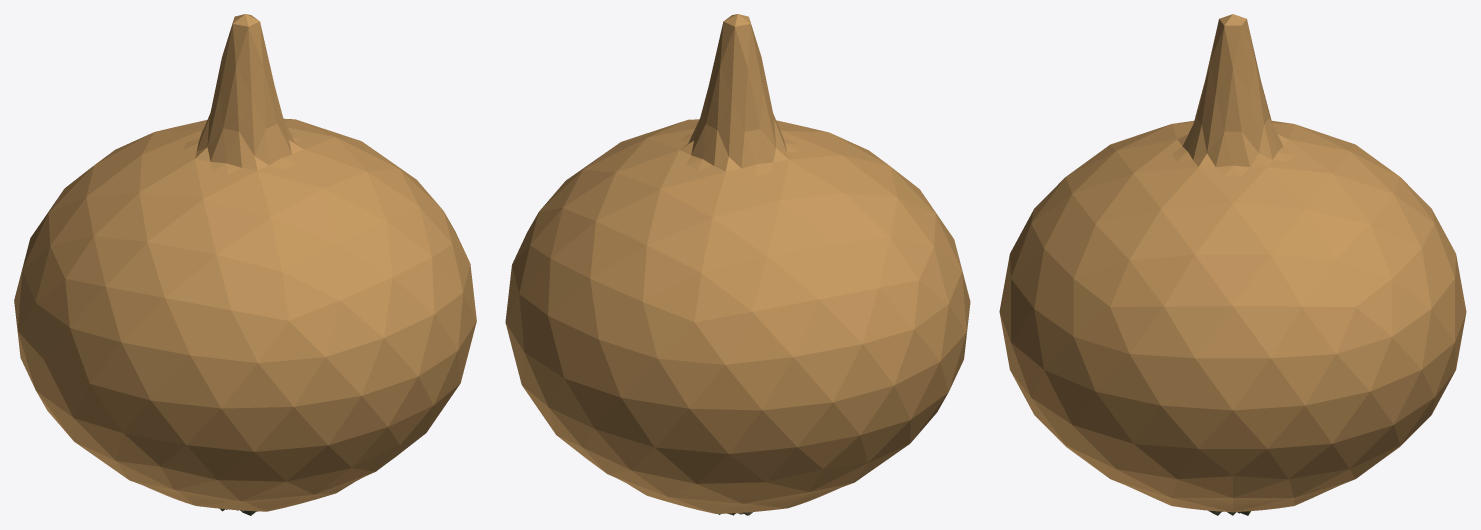
The model's file is onion.glb.
3 renders of one model, left to right at view 1: azimuth 30°, elevation 25°; view 2: azimuth 150°, elevation 25°; view 3: azimuth 270°, elevation 25°, orthographic.
Parts seen in each view (by area): view 1: Icosphere; view 2: Icosphere; view 3: Icosphere.
Part boxes in pixels (<box>): Icosphere: <box>14,14,476,511</box>; Icosphere: <box>505,14,970,513</box>; Icosphere: <box>999,14,1466,512</box>.
Size of the model in its own units: 2 by 2.3 by 2.
